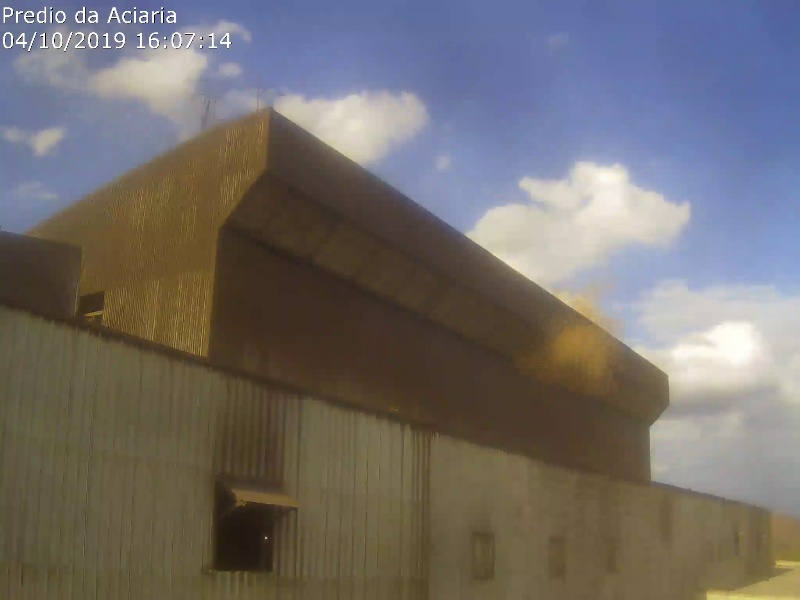bom: (1, 1, 396, 276), (399, 1, 773, 247)
pessimo: (568, 327, 602, 373)
ruim: (563, 277, 639, 332)
